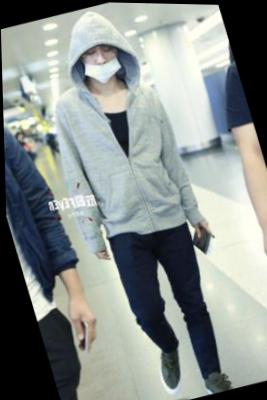WRONG: (78, 41, 127, 88)
